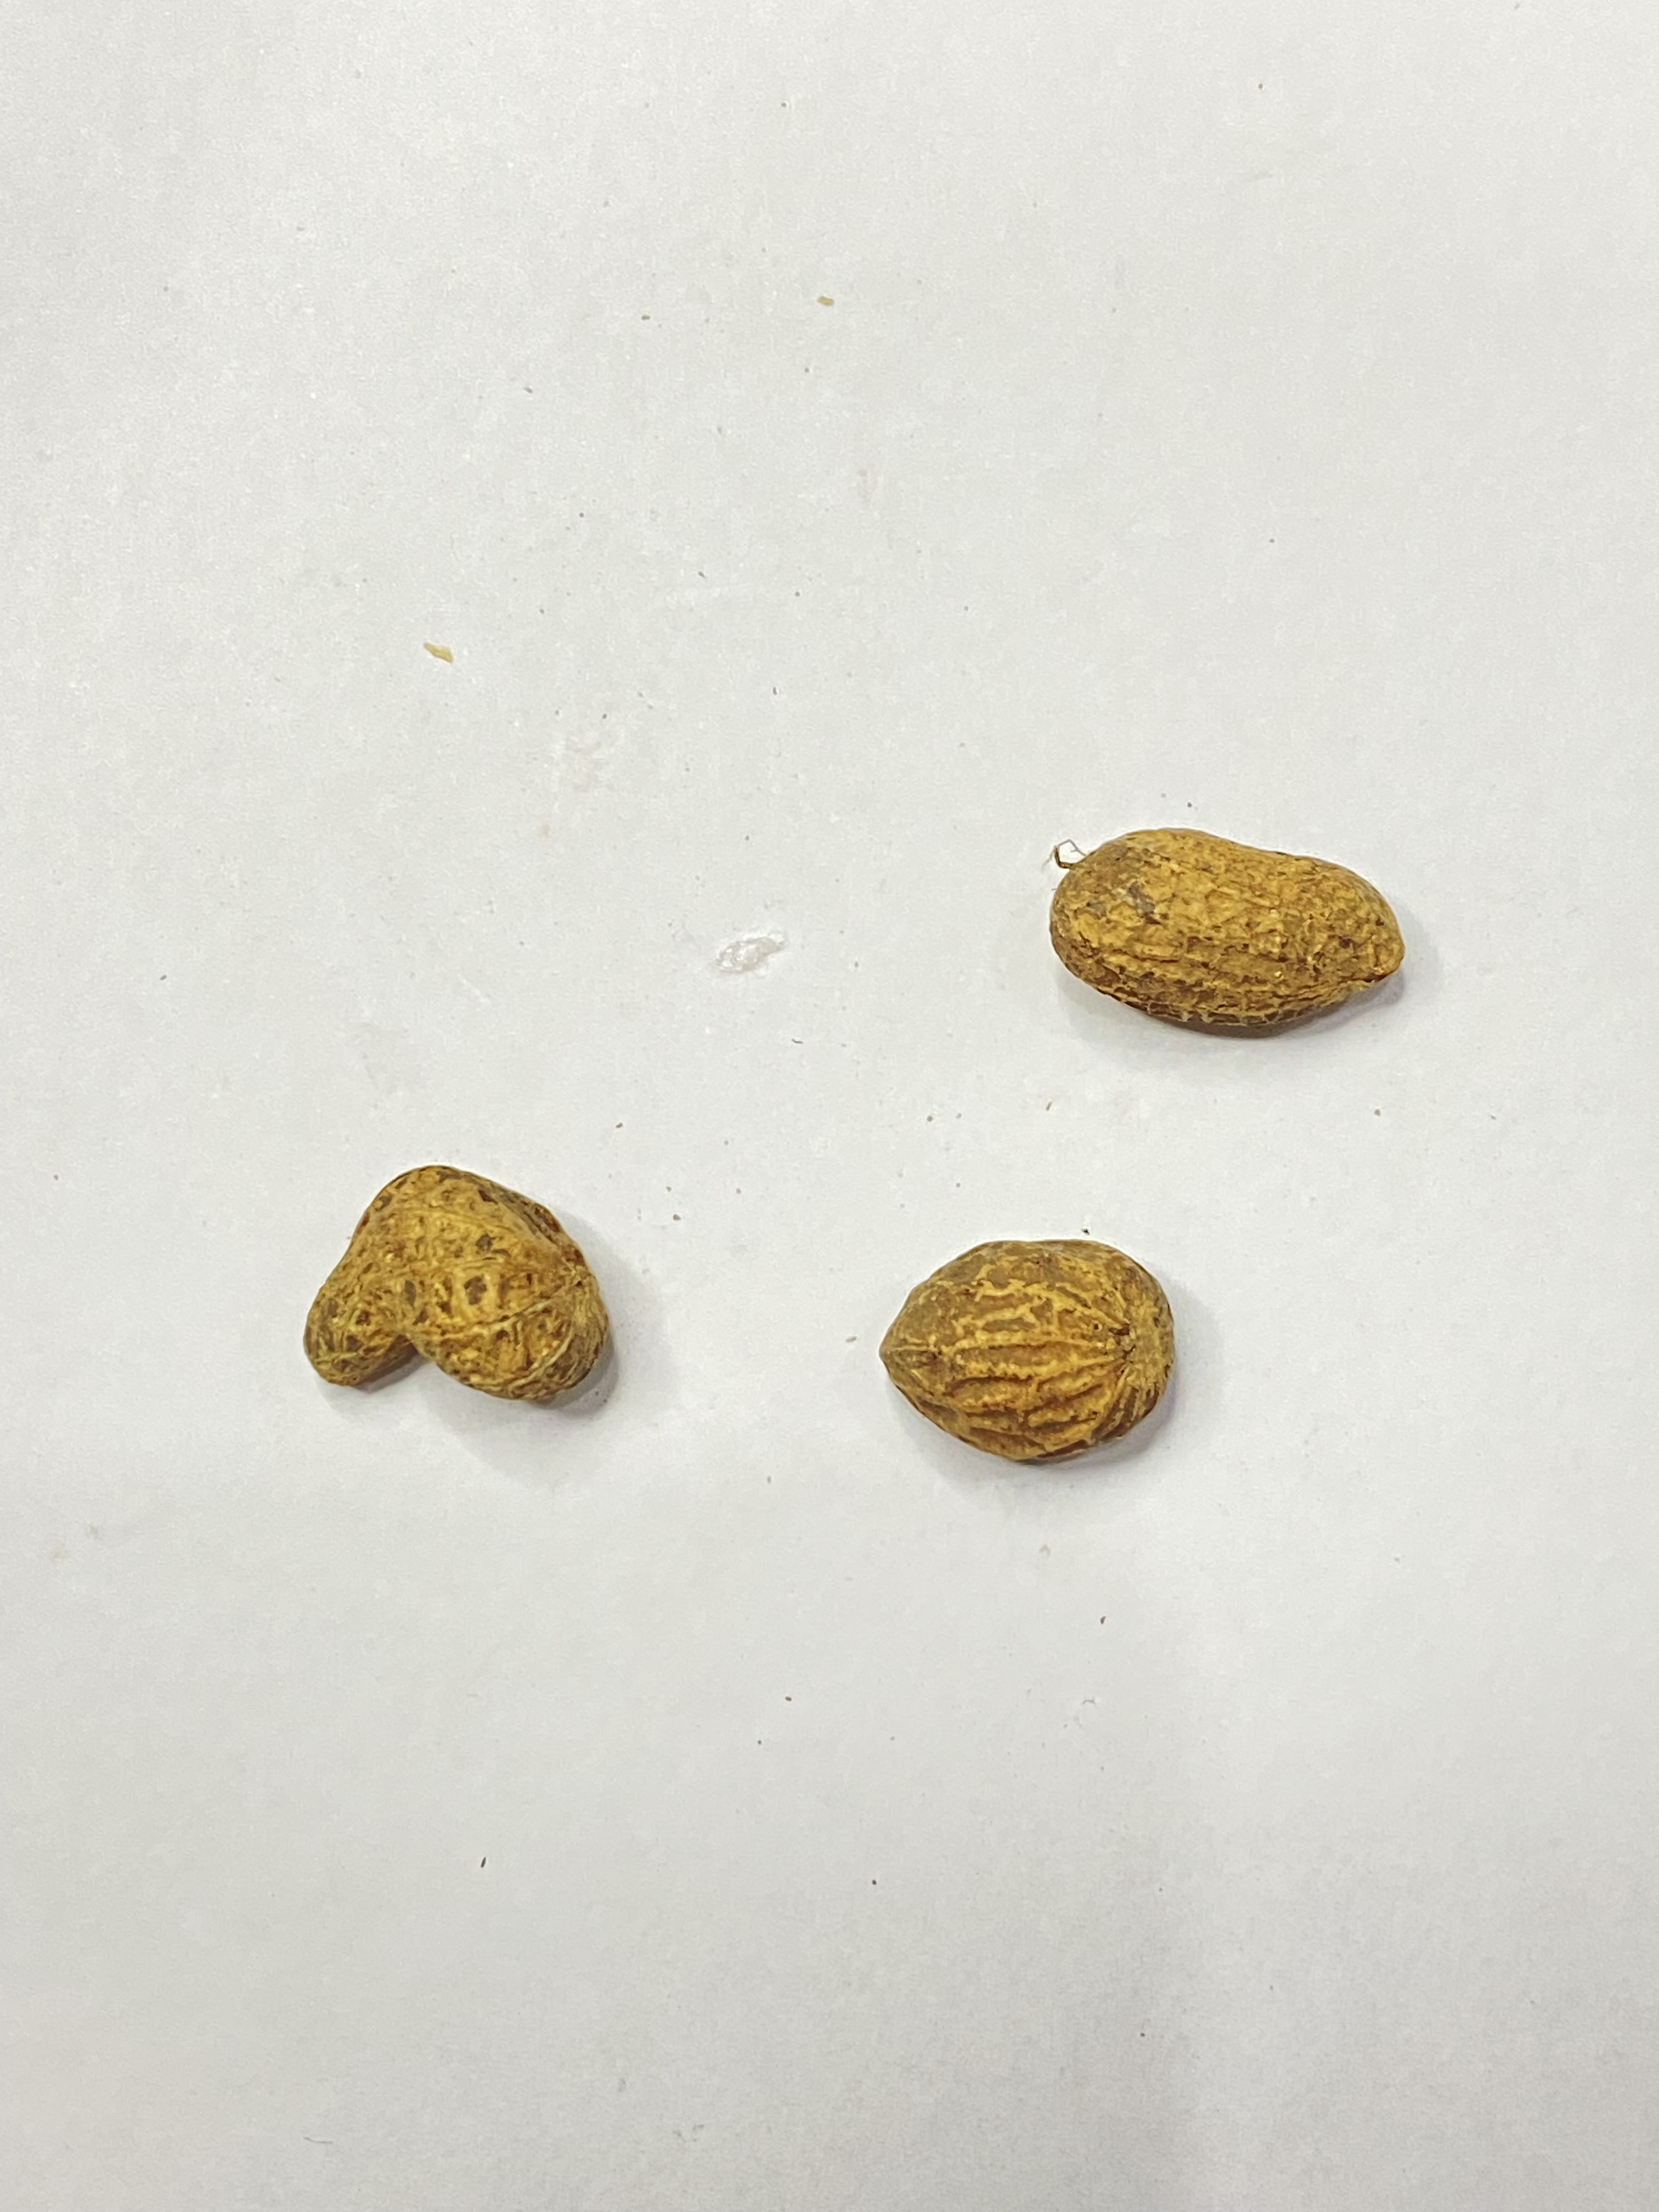kacang1: (852, 1226, 1256, 1491), (1023, 822, 1417, 1064), (274, 1155, 627, 1407)
